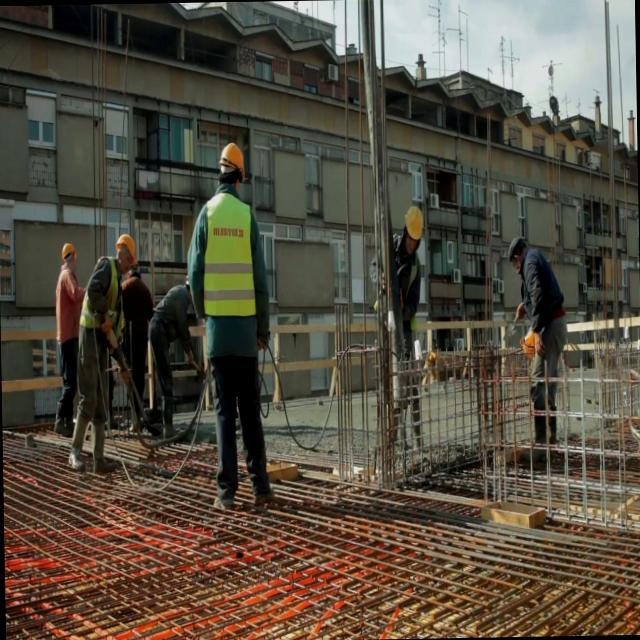helmet: (215, 135, 249, 186), (396, 203, 426, 249), (112, 224, 136, 274), (55, 234, 77, 264)
no-helmet: (506, 226, 524, 270)
no-vest: (526, 252, 560, 347), (56, 266, 76, 342), (400, 256, 422, 314)
vest: (204, 198, 255, 315), (80, 248, 116, 356)
